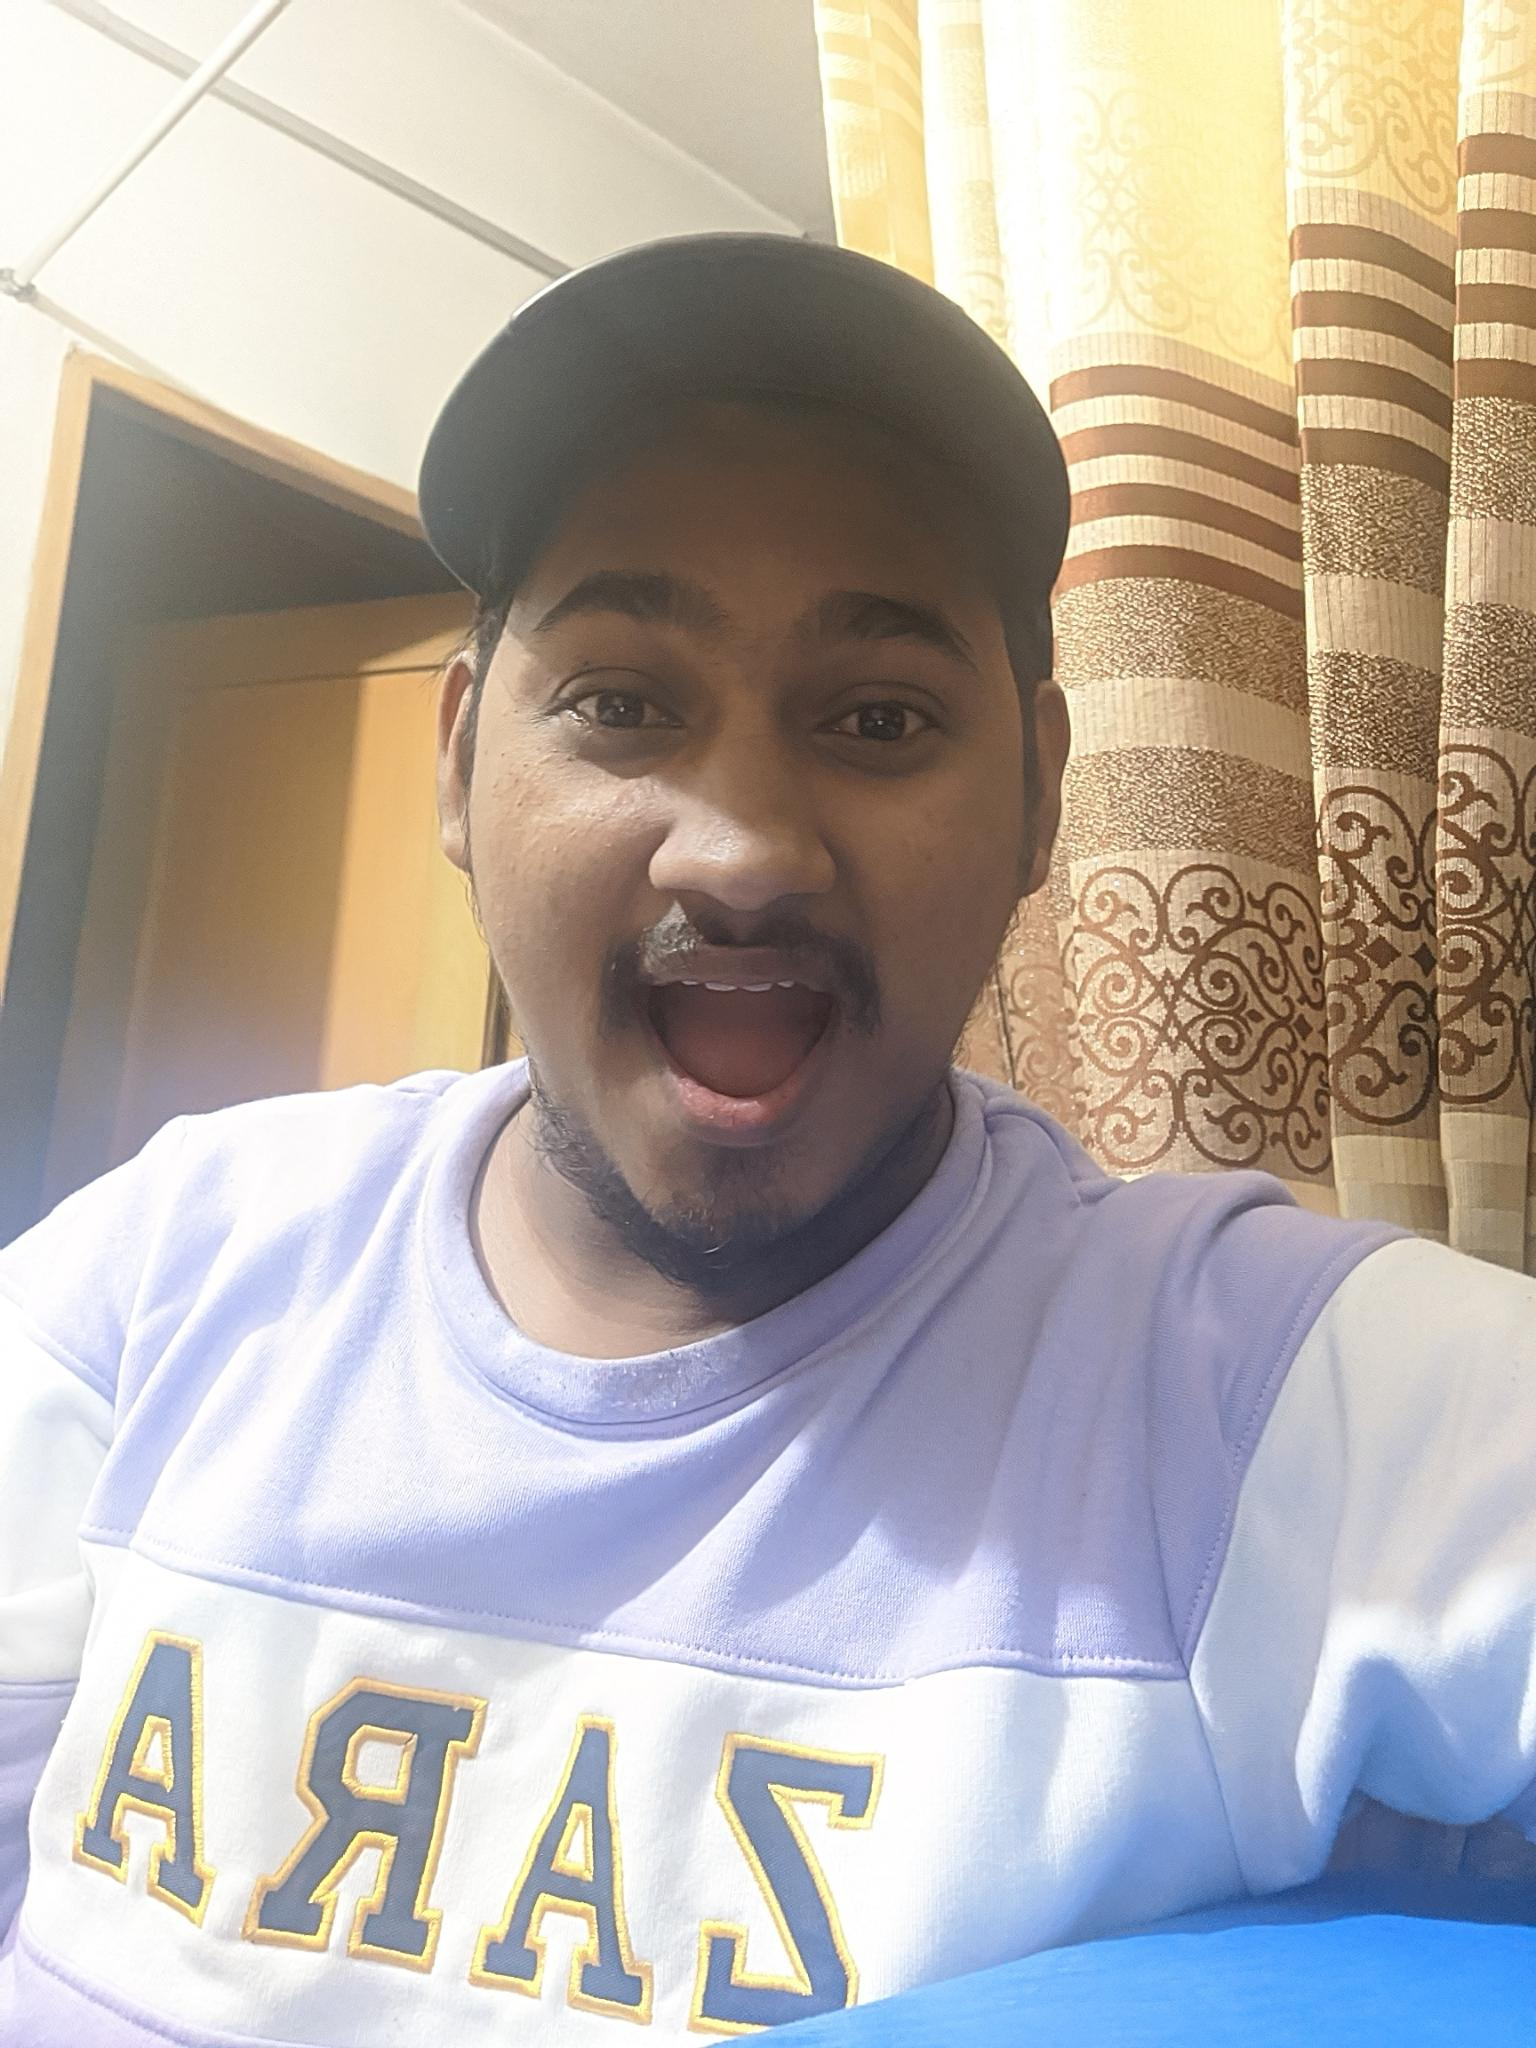Surprise: (458, 472, 1008, 1248)
